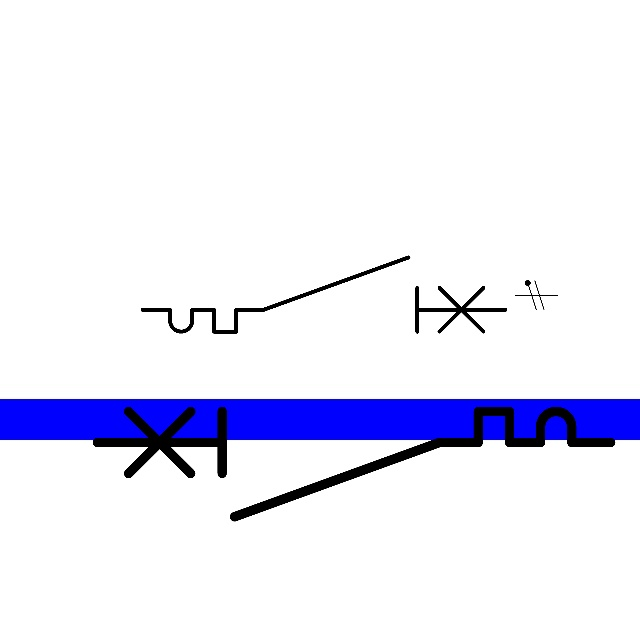interruptor_termomagnetico: (84, 398, 624, 530), (133, 248, 514, 341)
